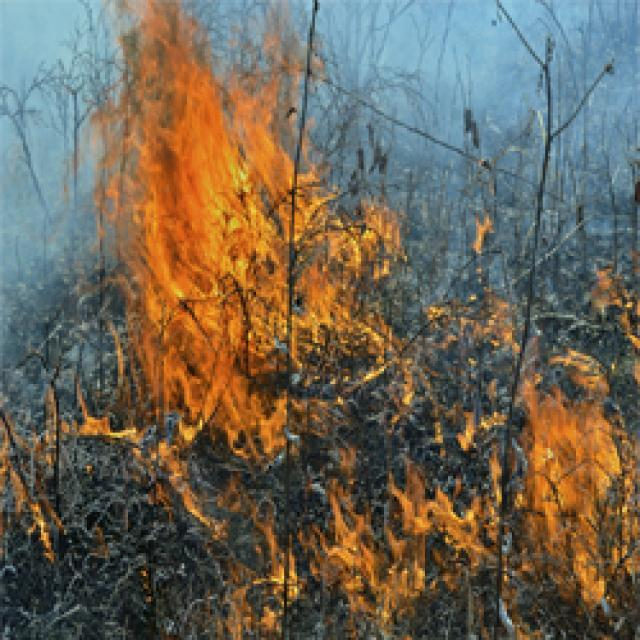Fire: (66, 0, 359, 420), (499, 340, 640, 640), (273, 462, 494, 594), (0, 331, 101, 590), (83, 398, 245, 546)
Smoke: (365, 0, 640, 255)
